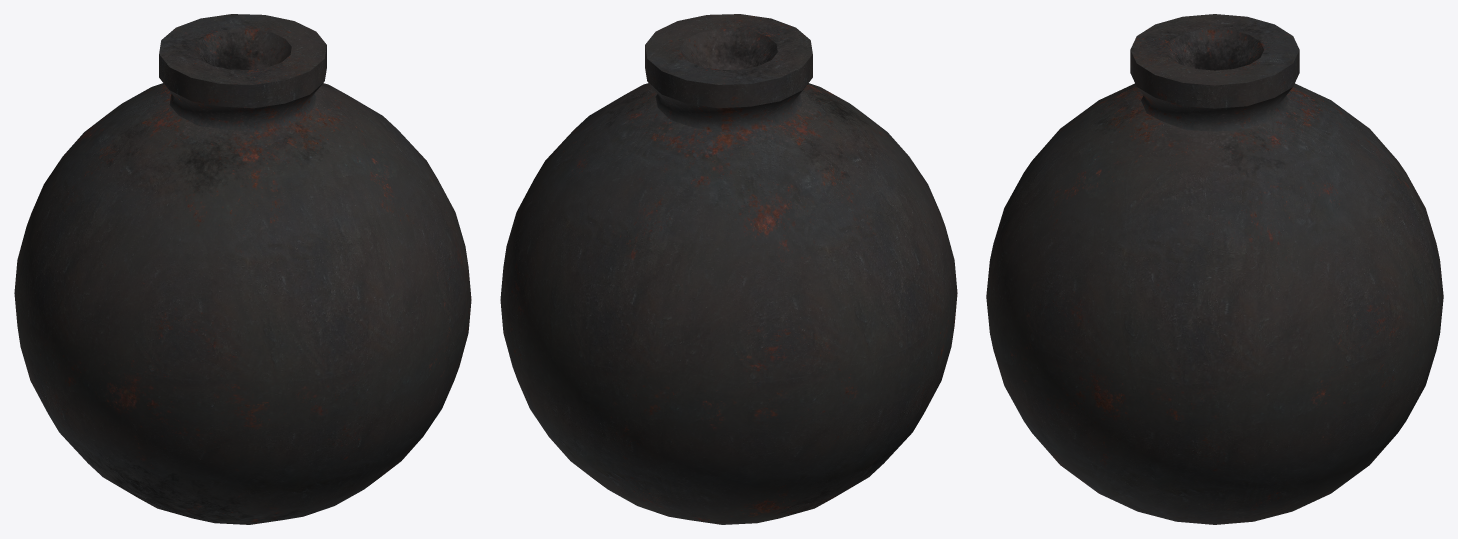
File: blob.gltf
3 renders of one model, left to right at view 1: azimuth 30°, elevation 25°; view 2: azimuth 150°, elevation 25°; view 3: azimuth 270°, elevation 25°, orthographic.
Visible parts, largest first — view 1: bomb_0.005; view 2: bomb_0.005; view 3: bomb_0.005.
Part boxes in pixels (x1=…): bomb_0.005: x1=14, y1=14, x2=471, y2=524; bomb_0.005: x1=500, y1=14, x2=957, y2=524; bomb_0.005: x1=986, y1=14, x2=1443, y2=524.
Size of the model in its own units: 0.141 by 0.1546 by 0.141.
1 material, 1 textured.
